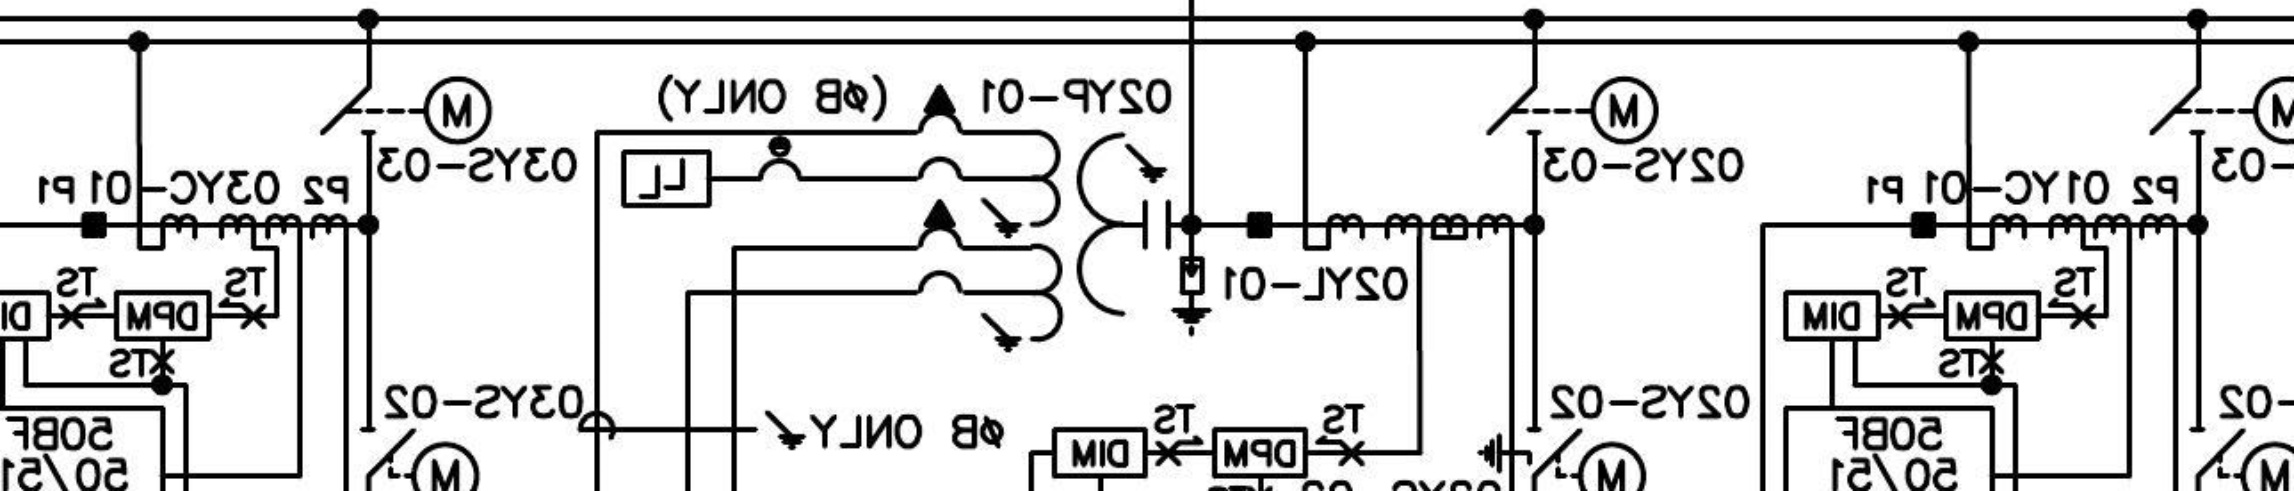115_1way_ds_w_motor: (1485, 73, 1661, 146), (319, 73, 494, 146)
115_cvt_1p: (913, 82, 1172, 355)
115_la: (1170, 256, 1213, 338)
DIM: (1782, 289, 1881, 342), (1052, 427, 1148, 479)
DPM: (113, 288, 214, 342), (1943, 289, 2042, 343), (1211, 427, 1309, 479)
LL: (620, 149, 712, 209)
